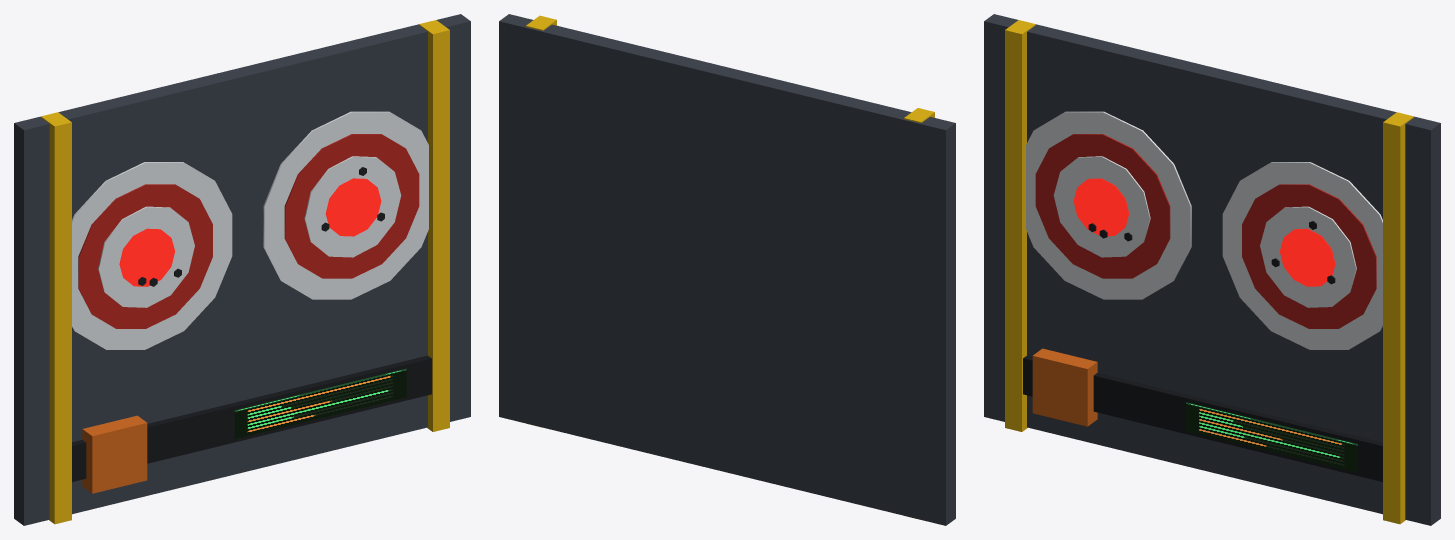
File: weaponrack_target_range_panel.glb
3 renders of one model, left to right at view 1: azimuth 30°, elevation 25°; view 2: azimuth 150°, elevation 25°; view 3: azimuth 330°, elevation 25°, orthographic.
Visible parts, largest first — view 1: weaponrack_target_range_panel; view 2: weaponrack_target_range_panel; view 3: weaponrack_target_range_panel.
Part boxes in pixels (bbox=[...]): weaponrack_target_range_panel: bbox=[14, 14, 470, 525]; weaponrack_target_range_panel: bbox=[499, 14, 955, 525]; weaponrack_target_range_panel: bbox=[984, 14, 1440, 525].
Size of the model in its own units: 1.3 by 1.11 by 0.1.
9 materials, 1 textured.
